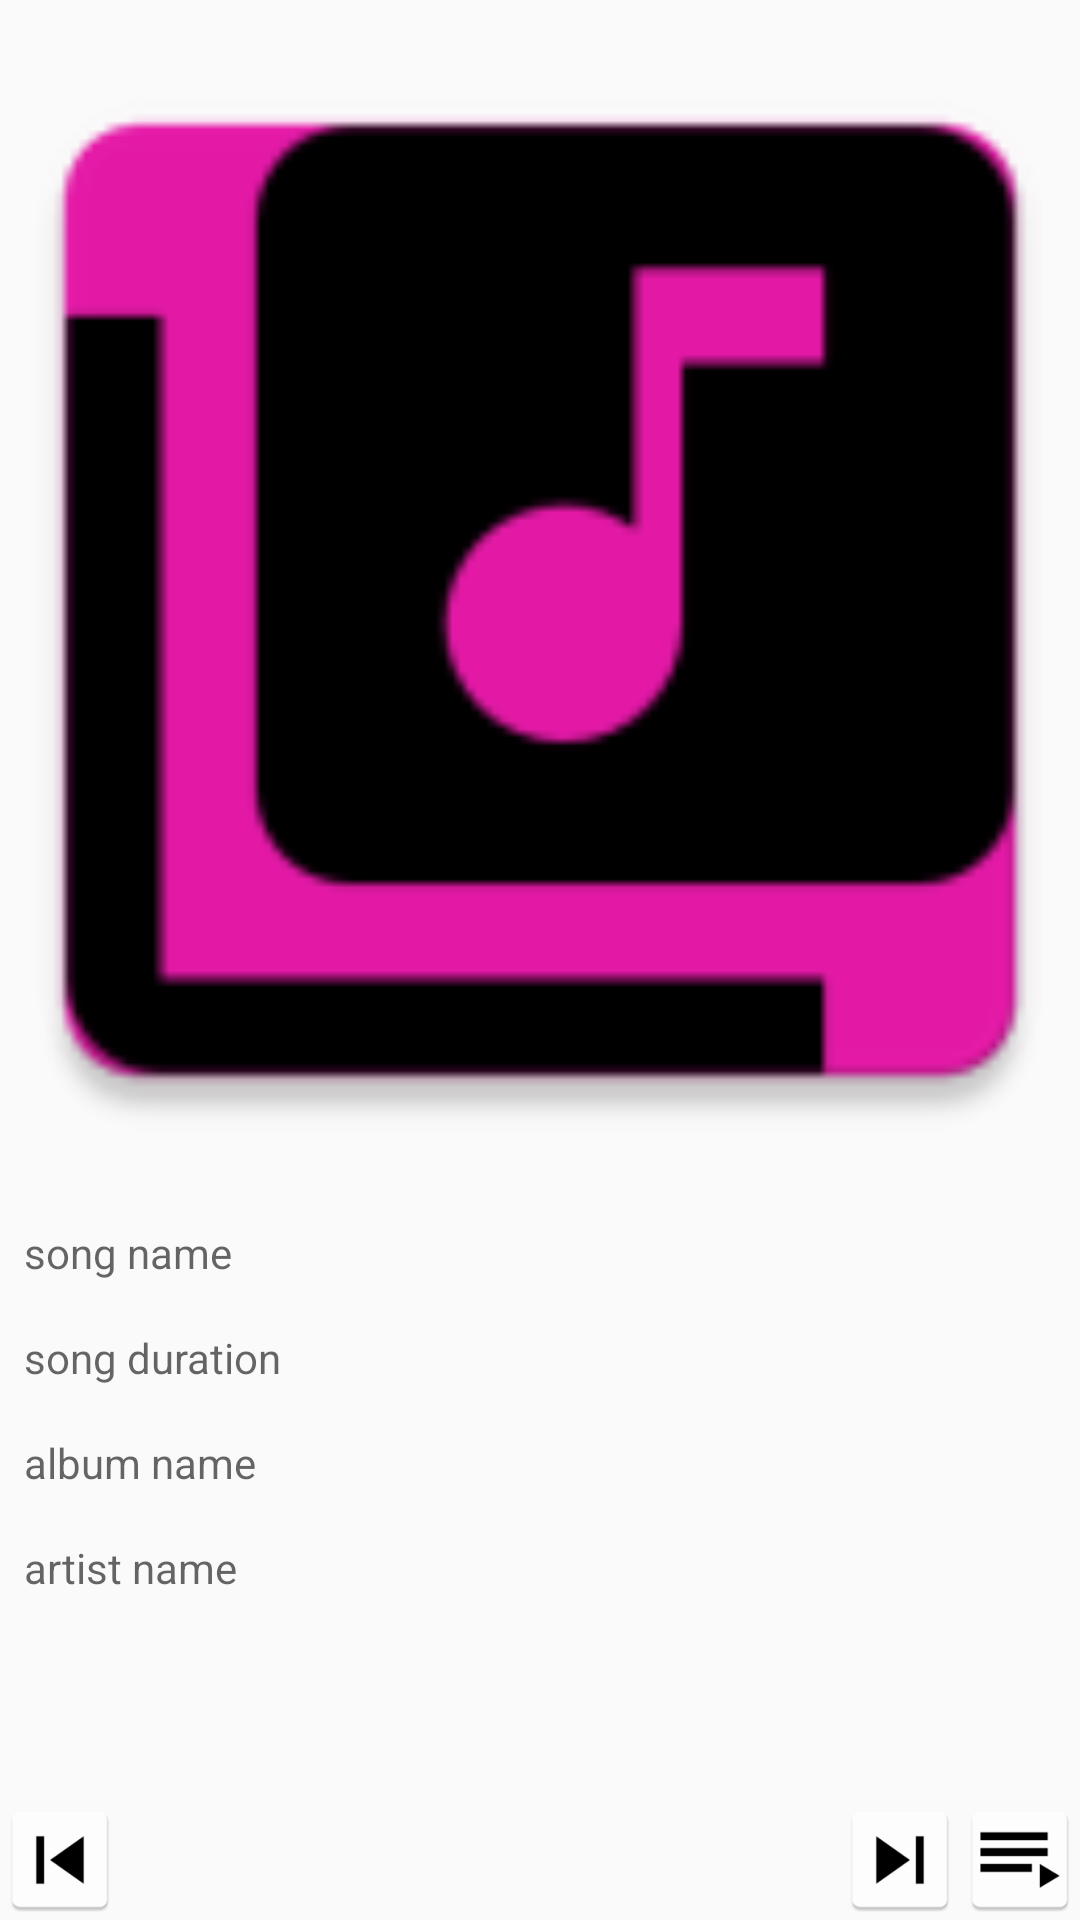

Screen size 1080*1920. Icon name, then its box in pixels as [left=x1, top=y1, right=x2, bottom=y2]:
next: [left=853, top=1822, right=948, bottom=1910]
previous: [left=13, top=1822, right=108, bottom=1910]
